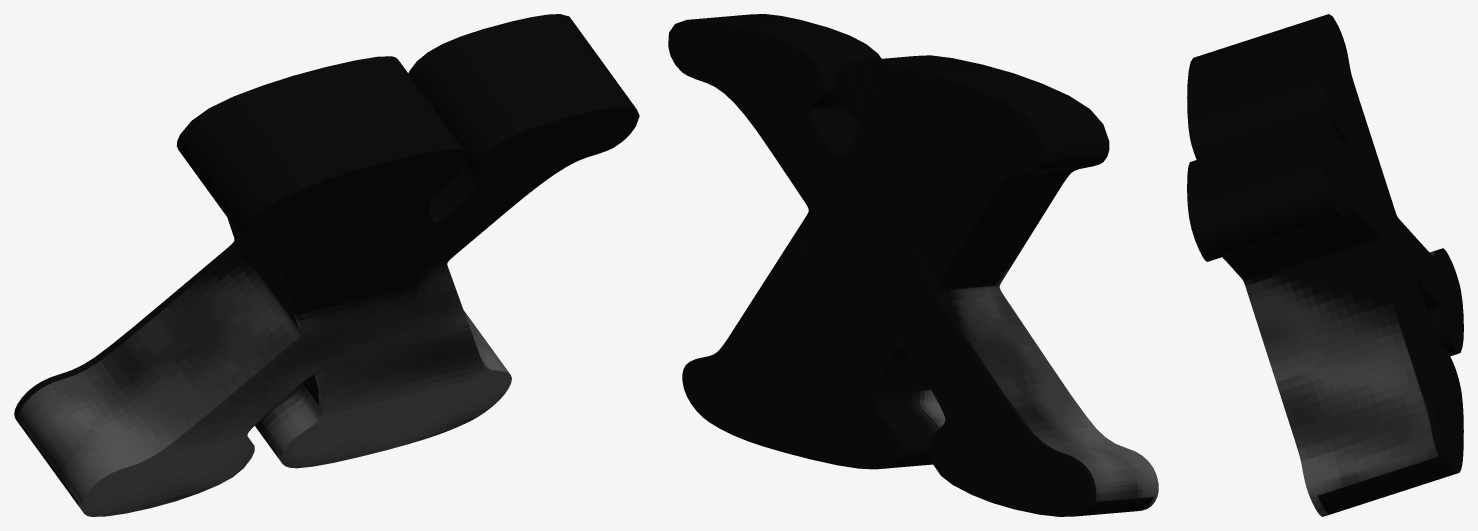
3 renders of one model, left to right at view 1: azimuth 30°, elevation 25°; view 2: azimuth 150°, elevation 25°; view 3: azimuth 270°, elevation 25°, orthographic. The views are drawn at different scales.
Parts seen in each view (by area): view 1: node_id35; view 2: node_id35; view 3: node_id35.
Part boxes in pixels (left/top/right/bottom): node_id35: left=14, top=14, right=639, bottom=516; node_id35: left=668, top=14, right=1158, bottom=516; node_id35: left=1187, top=14, right=1463, bottom=516.
Size of the model in its own units: 0.0599 by 0.0463 by 0.0289.
Materials: 1 (1 with a texture image).
